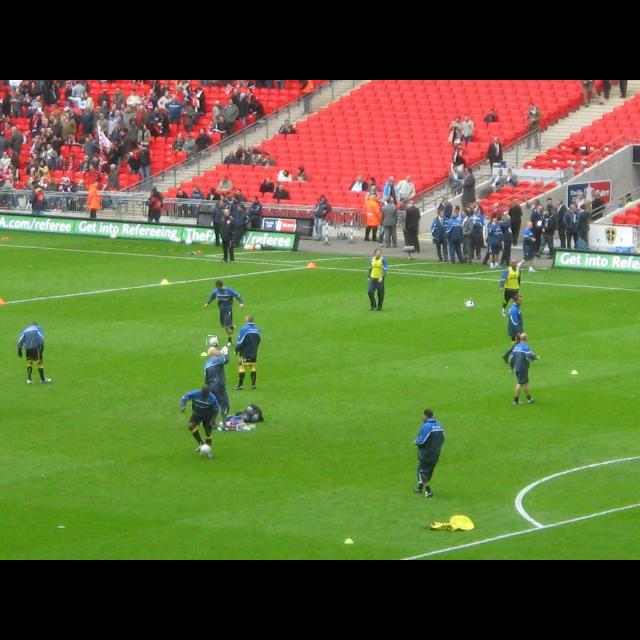Football: (200, 442, 210, 454), (207, 336, 217, 346), (464, 298, 472, 304)
